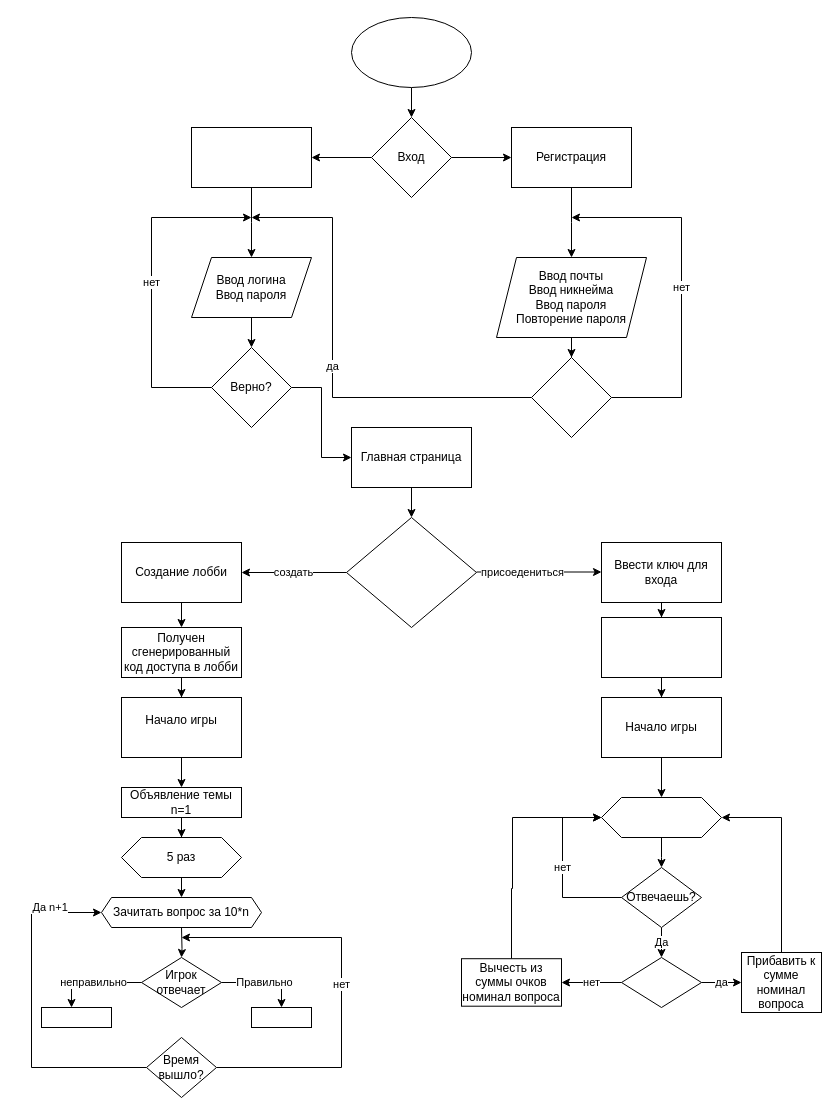
Image size: 839x1115. Some labels were removed from this diagram. The centre of each missing label's shape, as x and y in pixels:
"Авторизация" goes at point 251,157.
"Вопрос услышан" goes at point 661,817.
"Все подходит?" goes at point 571,397.
"Вход в лобби" goes at point 661,647.
"Зачесть" goes at point 281,1017.
"Не зачесть" goes at point 76,1017.
"Открытие сайта" goes at point 411,52.
"Правильно?" goes at point 661,982.
"Создать лобби\приседениться в лобби" goes at point 411,572.
